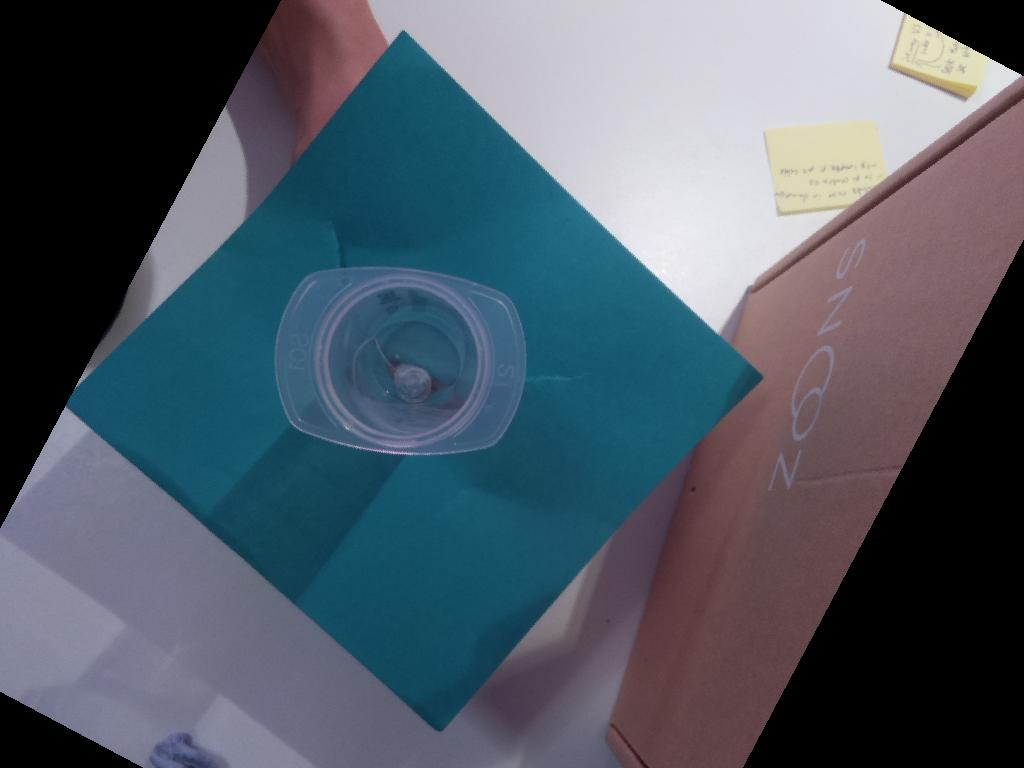clean: (273, 264, 528, 455)
